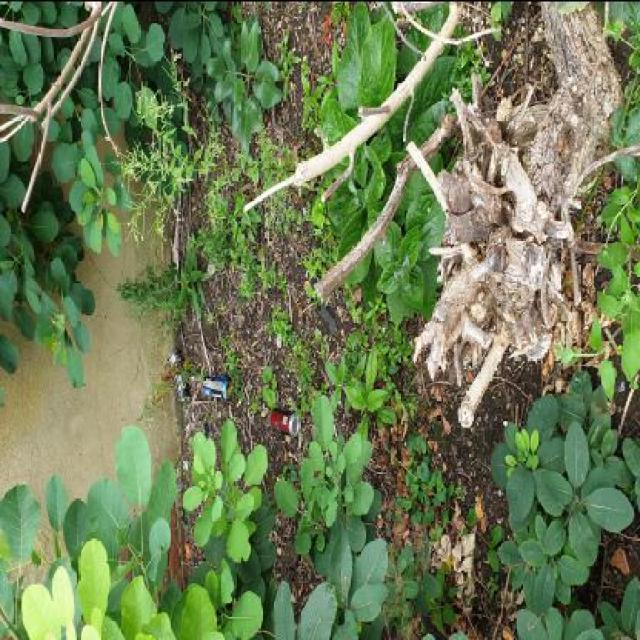metal: (168, 347, 189, 401), (269, 406, 300, 436), (202, 372, 233, 398)
